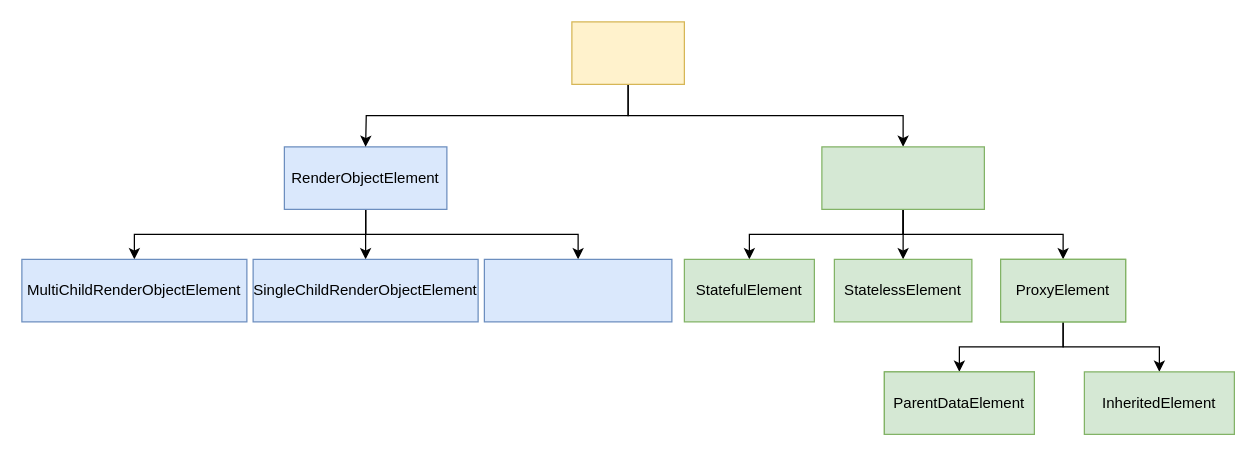
The diagram is 1256 pixels wide and 456 high, and some of its shapes have lost their labels. The shapes that lost their labels are listed below. From the top down, each one's centre as x and y in pixels, then its label:
At [627,52]: "Element".
At [902,177]: "CompomnentElement".
At [577,290]: "LeafRenderObjectElement".
